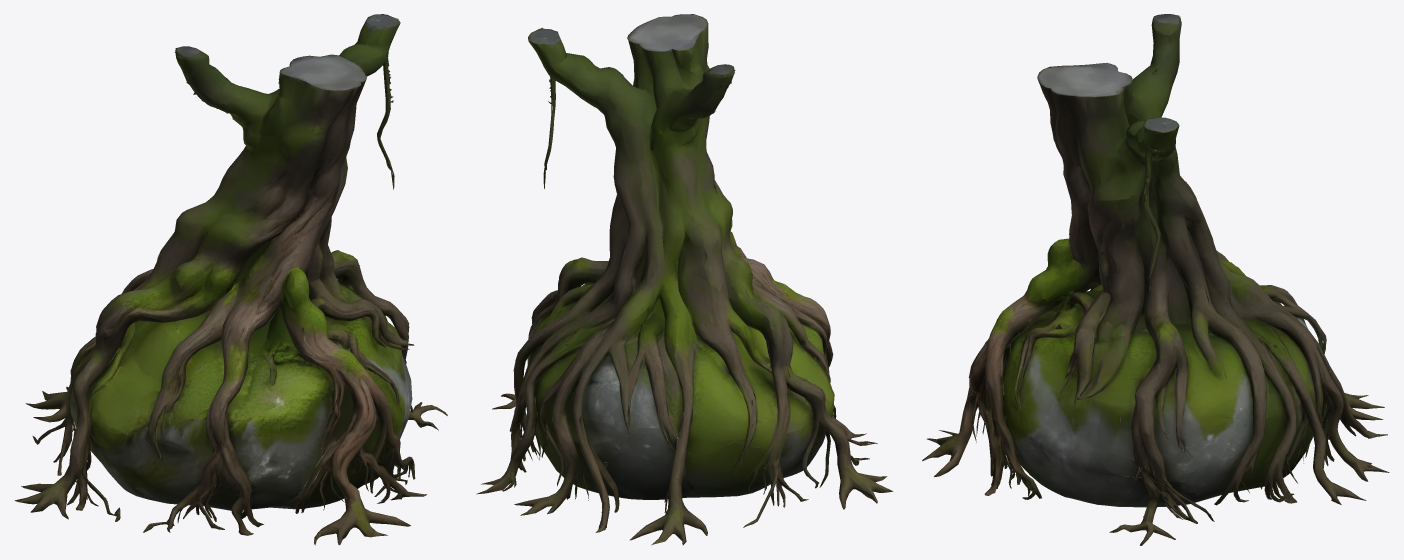
Rendered from roots.glb.
3 renders of one model, left to right at view 1: azimuth 30°, elevation 25°; view 2: azimuth 150°, elevation 25°; view 3: azimuth 270°, elevation 25°, orthographic. The views are drawn at different scales.
Parts seen in each view (by area): view 1: Roots; view 2: Roots; view 3: Roots.
Part boxes in pixels (x1,y1,x2,y2): Roots: (14, 14, 447, 545); Roots: (476, 14, 893, 545); Roots: (922, 14, 1389, 545).
Size of the model in its own units: 0.8473 by 0.8078 by 0.836.
1 material, 1 textured.
